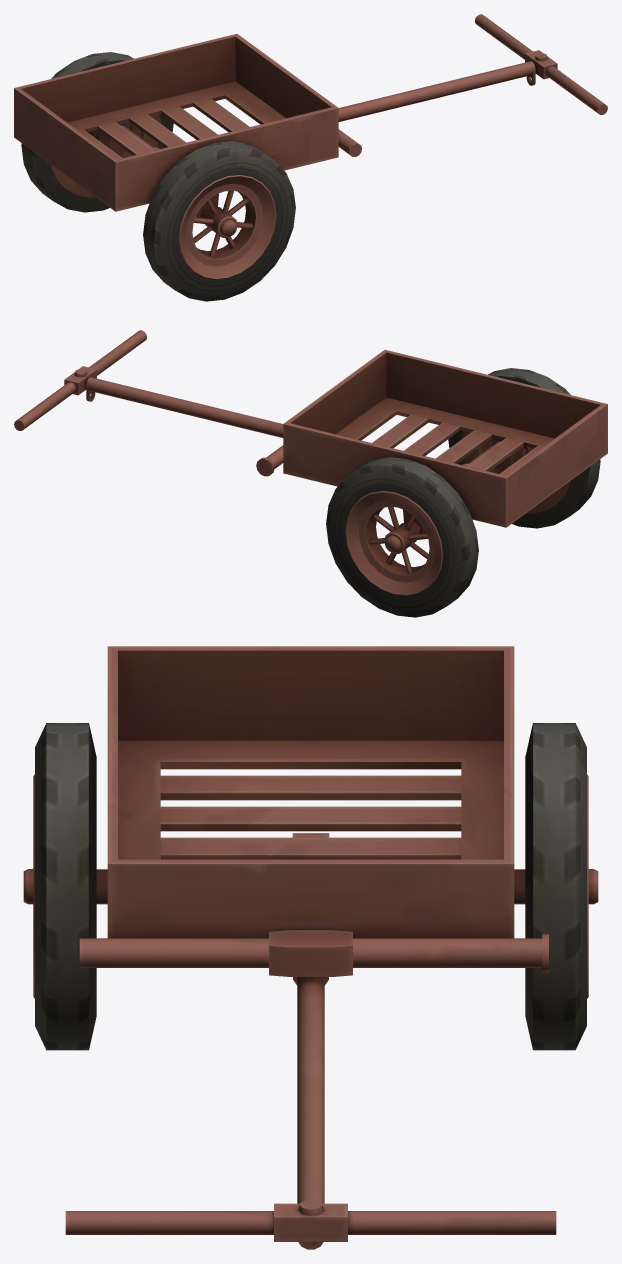
The picture shows the model from 3 angles, top to bottom: view 1: azimuth 30°, elevation 25°; view 2: azimuth 150°, elevation 25°; view 3: azimuth 270°, elevation 25°; orthographic projection. The views are drawn at different scales.
Parts seen in each view (by area): view 1: body0_model0_lod0_mesh0; view 2: body0_model0_lod0_mesh0; view 3: body0_model0_lod0_mesh0.
Boxes of the visible parts, x1,y1,x2,y2 form: body0_model0_lod0_mesh0: [14, 14, 607, 301]; body0_model0_lod0_mesh0: [14, 330, 607, 617]; body0_model0_lod0_mesh0: [23, 646, 598, 1249].
Size of the model in its own units: 87.94 by 25.86 by 45.27.
Materials: 1 (1 with a texture image).
